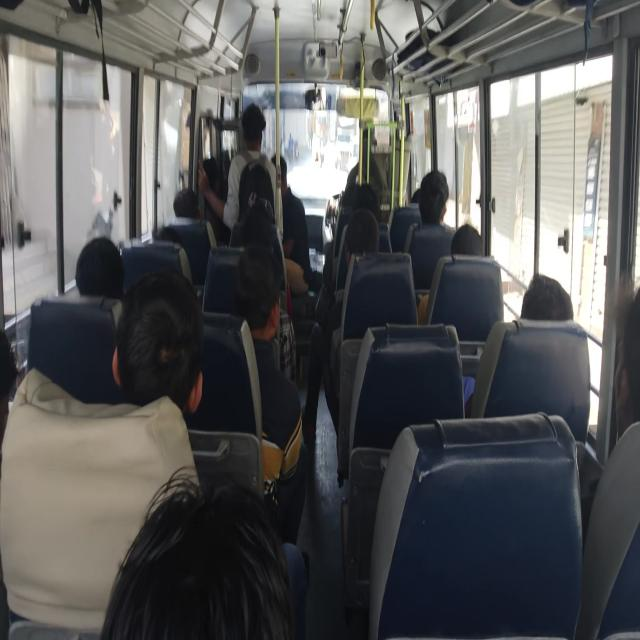person: (112, 276, 318, 554), (109, 408, 278, 640), (515, 260, 600, 392), (232, 245, 286, 352), (79, 223, 126, 301), (420, 153, 451, 220), (345, 211, 379, 263), (236, 101, 268, 156), (231, 223, 278, 260), (448, 220, 485, 264), (144, 223, 180, 267), (171, 173, 197, 222), (629, 312, 640, 404), (198, 153, 224, 188), (405, 183, 428, 216), (354, 176, 378, 204), (253, 206, 281, 223), (272, 154, 288, 181)
